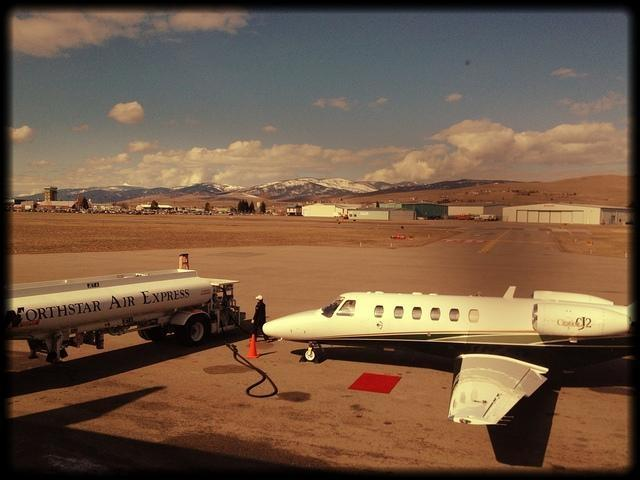truck: (7, 270, 247, 366)
